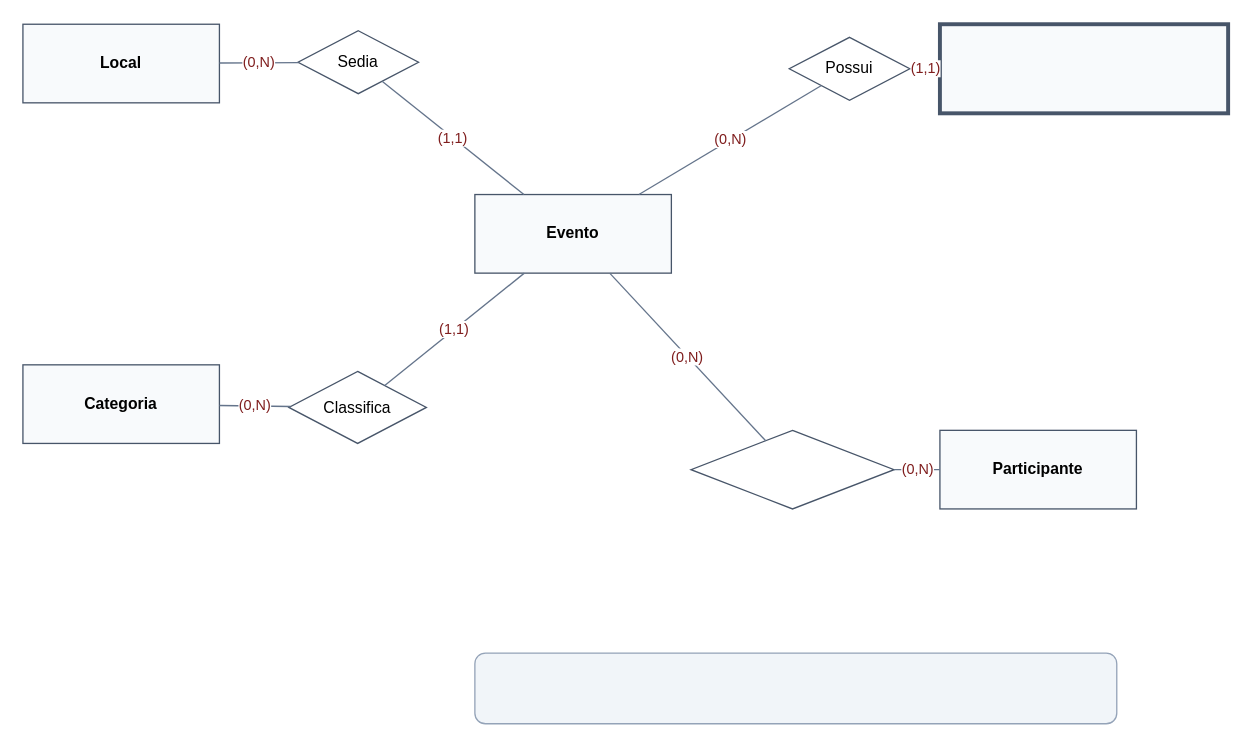
Some shapes in this 1252 by 747 pixel diagram are drawn without their labels. The box of each missing label's shape, as (x1, y1, x2, y2) in pixels:
Atividade (fraca) PK parcial: numero_atividade: (937, 22, 1229, 115)
Atividade: entidade fraca, identificada por evento_codigo + numero_atividade: (474, 652, 1117, 724)
Inscrição (N:N): (690, 429, 894, 509)
